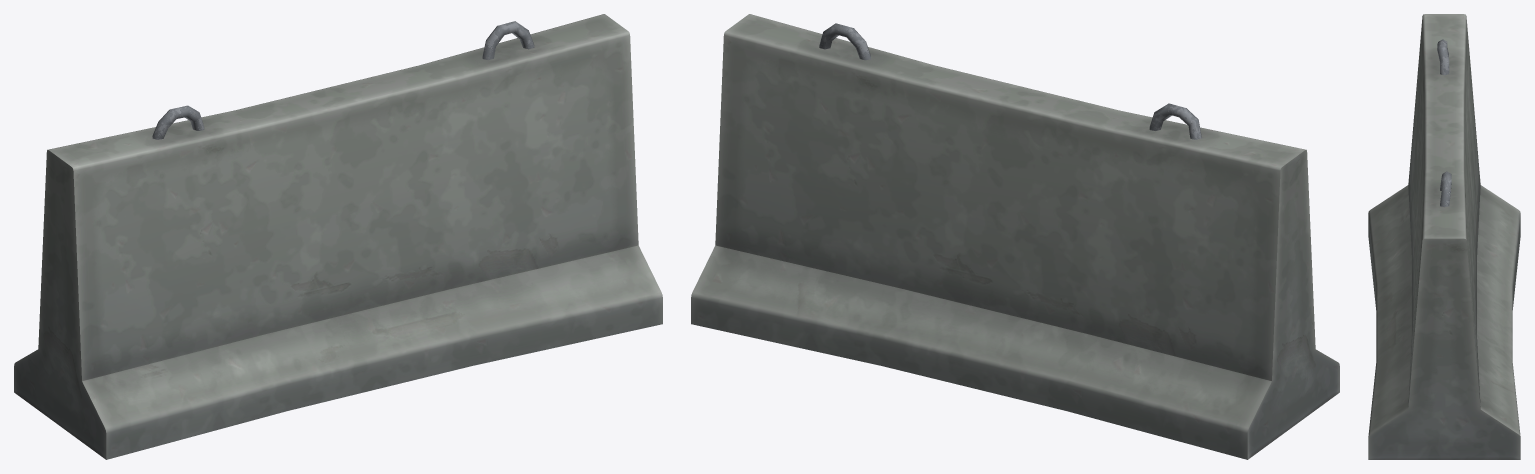
Rendered from BarrierConcrete03_1.FBX.
3 views of the same model, side by side, from view 1: azimuth 30°, elevation 25°; view 2: azimuth 150°, elevation 25°; view 3: azimuth 270°, elevation 25° (orthographic). The views are drawn at different scales.
Visible parts, largest first — view 1: BarrierConcrete03_1; view 2: BarrierConcrete03_1; view 3: BarrierConcrete03_1.
Boxes of the visible parts, box(x1,y1,x2,y2) form: BarrierConcrete03_1: box(14, 14, 662, 459); BarrierConcrete03_1: box(691, 14, 1339, 459); BarrierConcrete03_1: box(1368, 14, 1520, 459).
Size of what is drawn, in the model's own units: 1.5 by 0.7537 by 0.4303.
